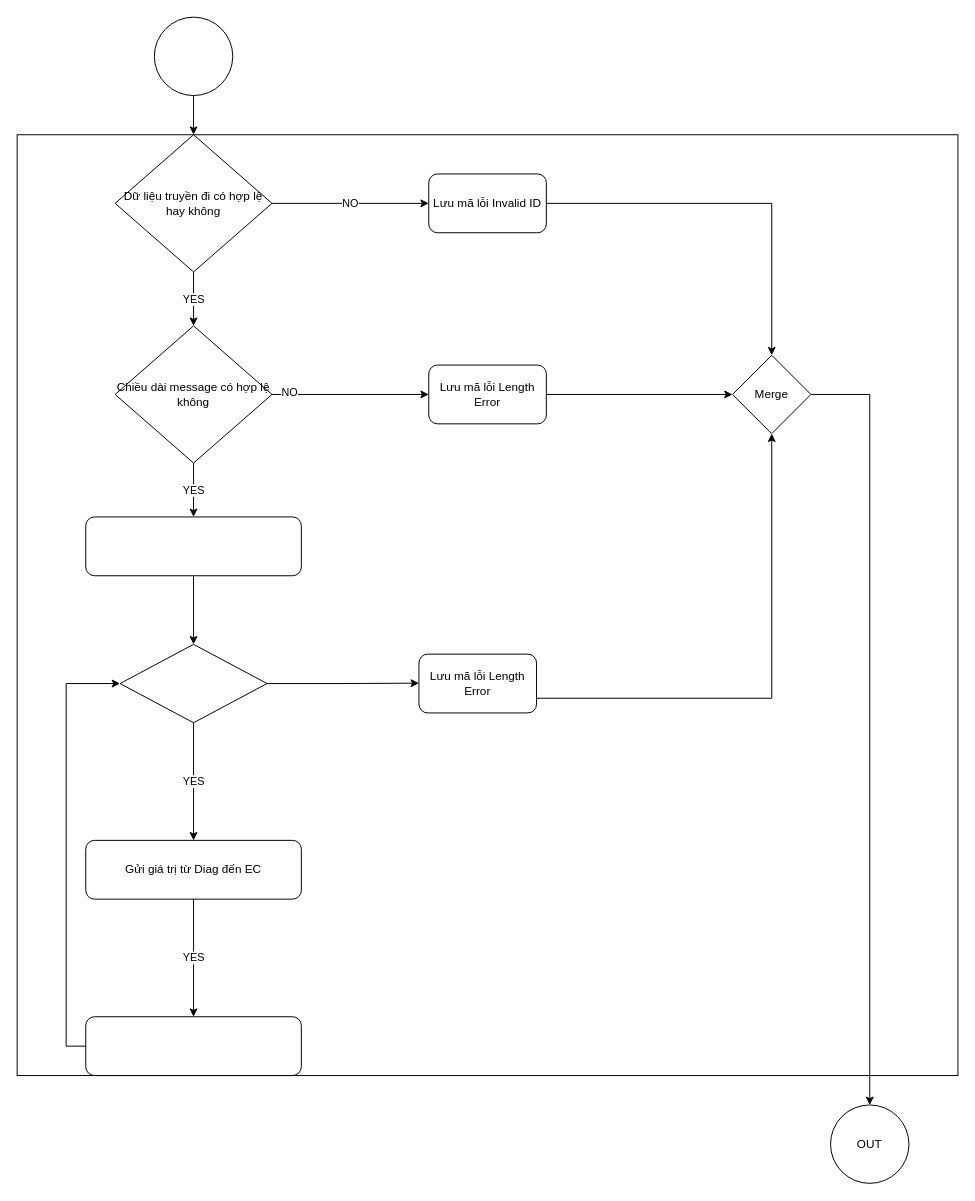
Image size: 975x1201. Some labels were removed from this diagram. Each missing label, with the centre of its shape:
"Bắt đầu Loop" belongs at [193,546].
"ENTRY" belongs at [193,56].
"Index < length" belongs at [193,683].
"Index++" belongs at [193,1046].
